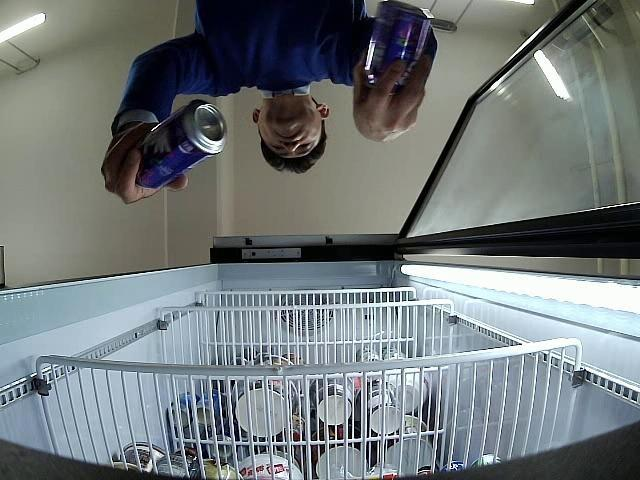14_welchsGrape: (134, 99, 228, 188), (363, 0, 431, 94)
